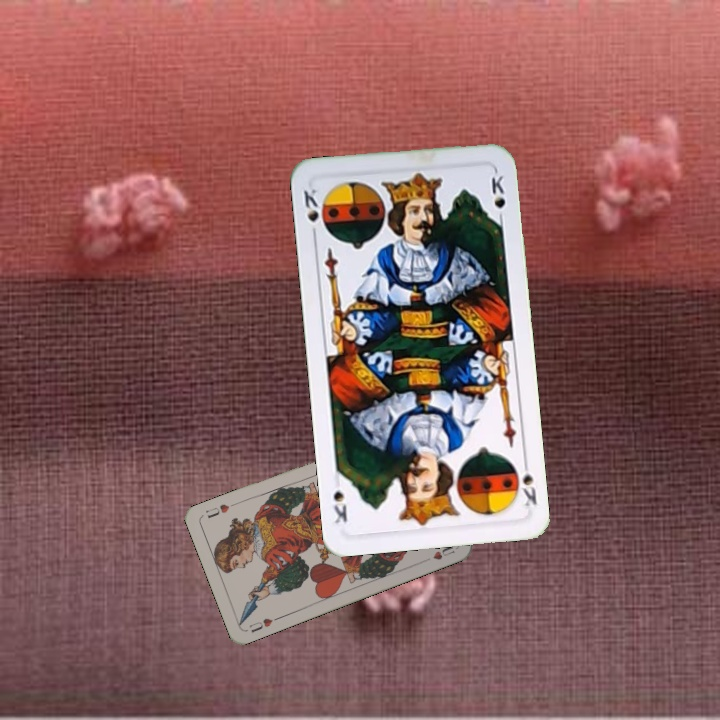HU: (245, 613, 282, 636)
SK: (509, 454, 539, 509), (300, 184, 328, 242)
